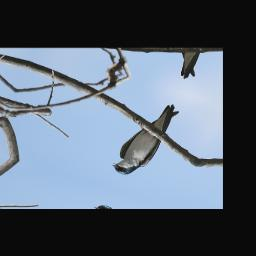Swallow: (109, 95, 181, 182)
